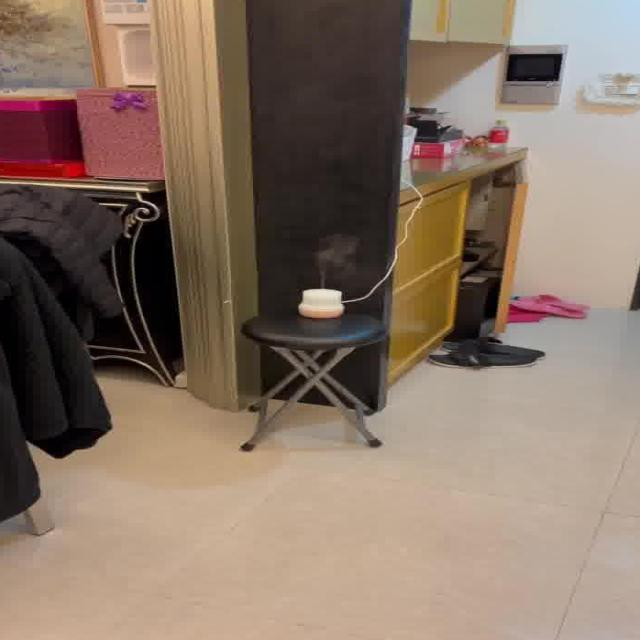fire: (308, 226, 370, 283)
